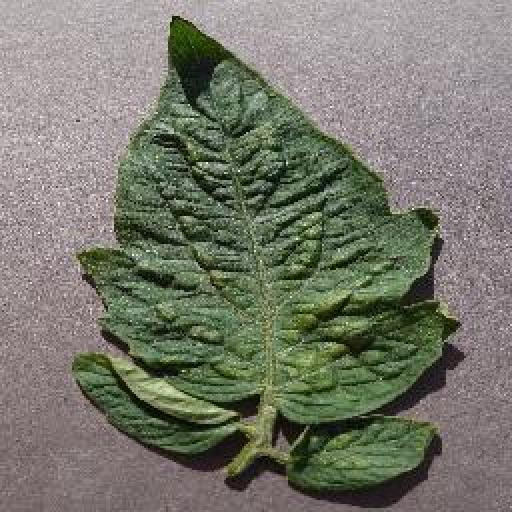Spider Mites: (69, 11, 460, 420)
